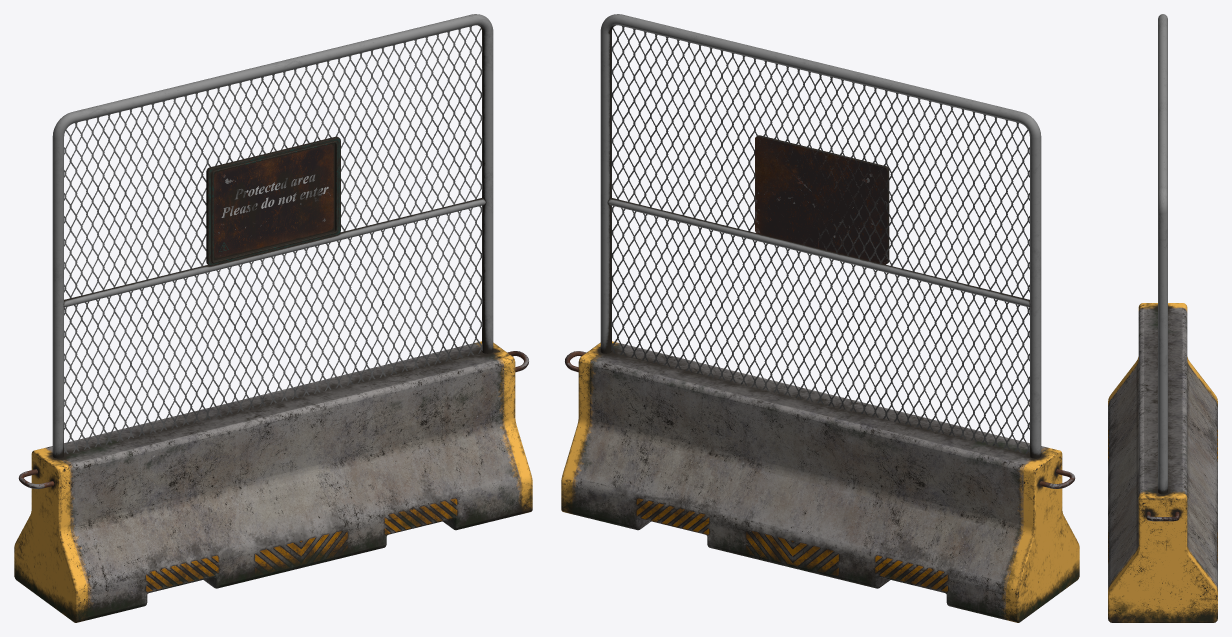
File: fence_protective_metal_17mb.glb
The picture shows the model from 3 angles, left to right: view 1: azimuth 30°, elevation 25°; view 2: azimuth 150°, elevation 25°; view 3: azimuth 270°, elevation 25°; orthographic projection. The views are drawn at different scales.
Parts seen in each view (by area): view 1: 03_03_0, 01_01_0, 02_02_0; view 2: 03_03_0, 01_01_0, 02_02_0; view 3: 03_03_0, 02_02_0.
Part boxes in pixels (x1=…): 03_03_0: x1=14, y1=341, x2=532, y2=622; 01_01_0: x1=64, y1=26, x2=482, y2=453; 02_02_0: x1=18, y1=14, x2=528, y2=488; 03_03_0: x1=561, y1=341, x2=1079, y2=622; 01_01_0: x1=611, y1=26, x2=1029, y2=453; 02_02_0: x1=565, y1=14, x2=1075, y2=488; 03_03_0: x1=1108, y1=303, x2=1217, y2=622; 02_02_0: x1=1146, y1=14, x2=1179, y2=521.
Size of the model in its own units: 3.07 by 2.82 by 0.6625.
Materials: 3 (3 with a texture image).
